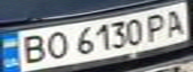0: (124, 16, 148, 46)
1: (93, 20, 115, 52)
3: (109, 18, 130, 50)
6: (72, 24, 96, 56)
A: (160, 7, 193, 38)
B: (12, 32, 51, 66)
O: (39, 29, 72, 61)
P: (142, 10, 172, 43)
